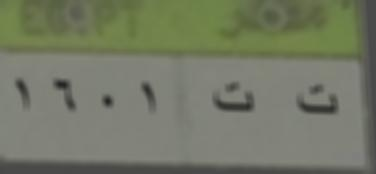0: (93, 84, 120, 118)
1: (126, 79, 170, 119), (8, 70, 37, 114)
6: (46, 72, 83, 120)
taa: (198, 74, 265, 124), (285, 76, 346, 119)
